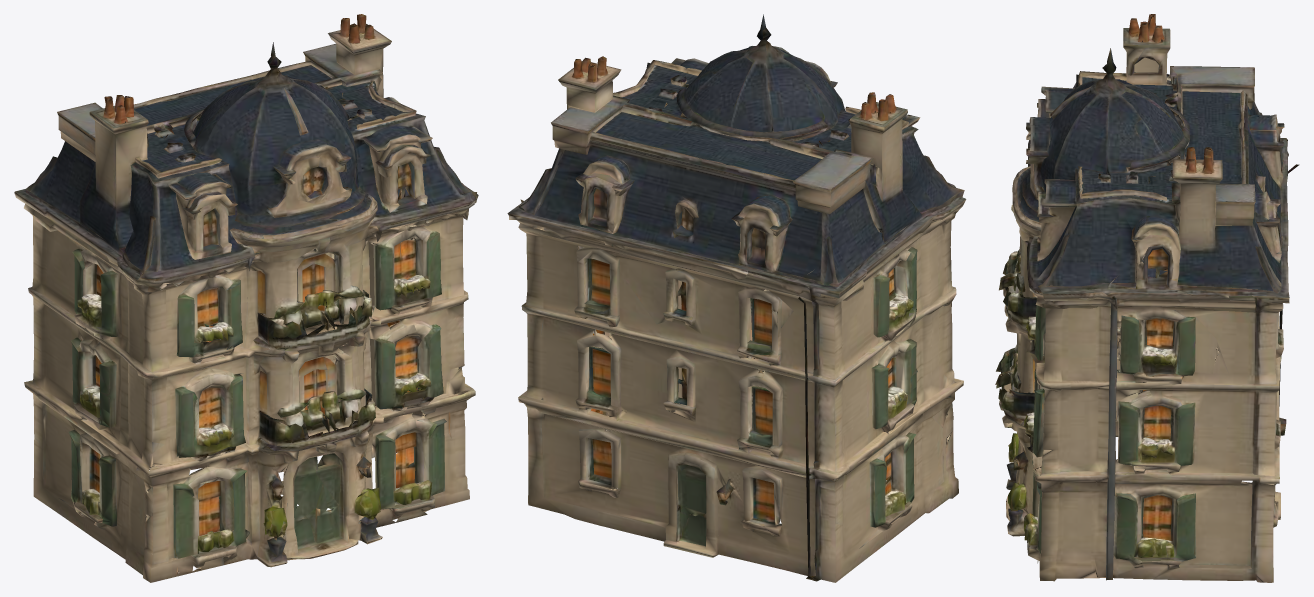
3 renders of one model, left to right at view 1: azimuth 30°, elevation 25°; view 2: azimuth 150°, elevation 25°; view 3: azimuth 270°, elevation 25°, orthographic. The views are drawn at different scales.
Parts seen in each view (by area): view 1: classic__tower_3__native_mobile; view 2: classic__tower_3__native_mobile; view 3: classic__tower_3__native_mobile.
Boxes of the visible parts, box(x1,y1,x2,y2) form: classic__tower_3__native_mobile: box(14, 14, 478, 582); classic__tower_3__native_mobile: box(507, 14, 966, 582); classic__tower_3__native_mobile: box(995, 14, 1299, 582).
Bounding box in the file's own units: 0.762 × 1 × 0.5922.
Materials: 1 (1 with a texture image).
